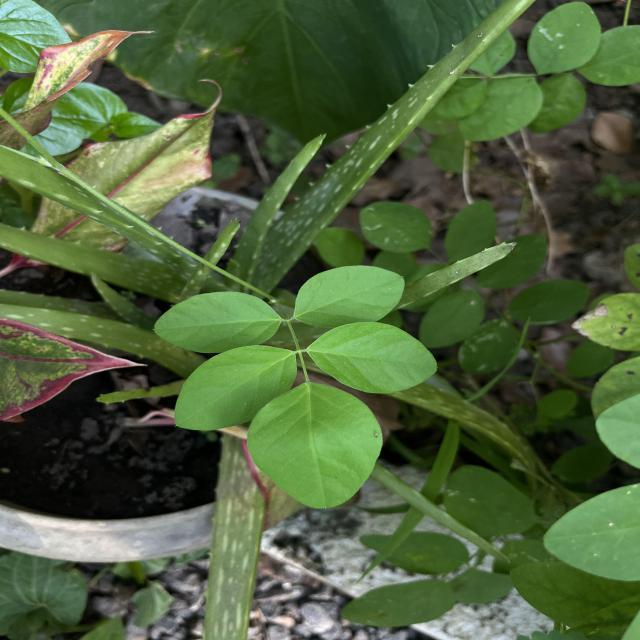Clitoria ternatea: (245, 380, 385, 510), (174, 344, 298, 432), (306, 320, 438, 395), (152, 290, 283, 354), (293, 264, 407, 330)
